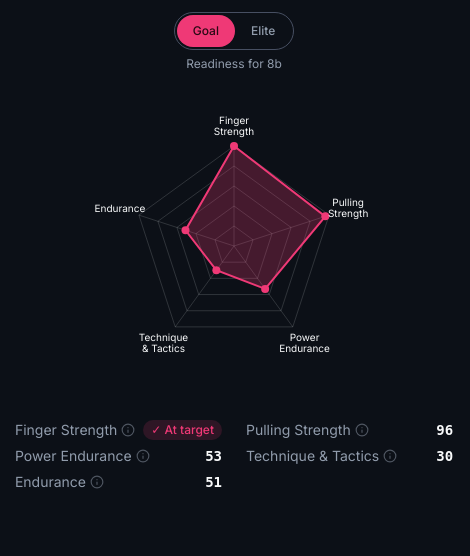
Test: Elite mode › defaults to Goal and only switches on an explicit tap
The width and height of the screenshot is (470, 556).
Expected: the text "Readiness for 8b" is shown, [186, 56, 282, 72]
Click the button "Elite": {"x": 263, "y": 31} [235, 15, 291, 47]
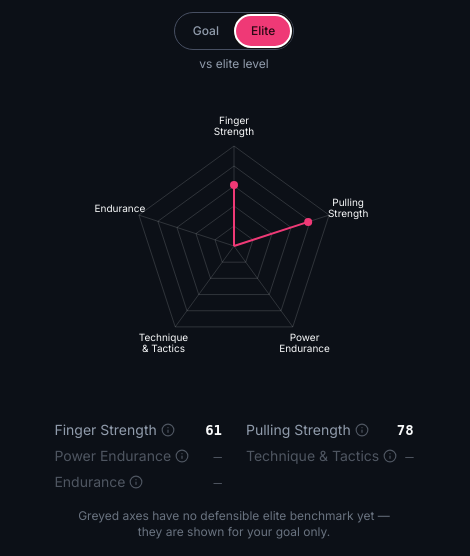
Now the text "vs elite level" is shown, box [199, 56, 269, 72]
